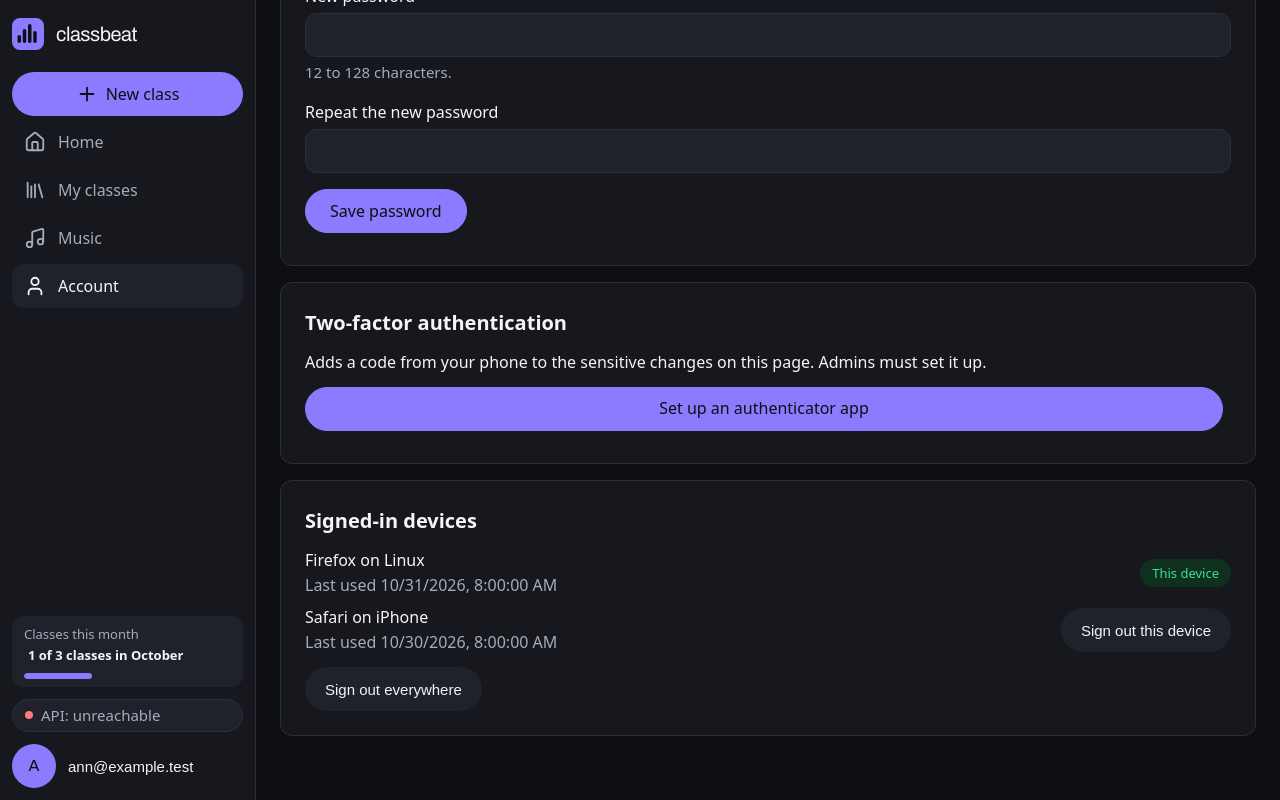
Test: signed-in devices › lists the sessions without their address and signs out another device
The image size is (1280, 800).
(page scrolled)
Expected: the list with test id "devices" shows "Firefox on Linux", left=305, top=549, right=425, bottom=571
Expected: the list with test id "devices" shows "This device", left=1152, top=564, right=1219, bottom=582
Click the button "Sign out this device" at (1146, 630), box left=1061, top=608, right=1231, bottom=652
(page scrolled)
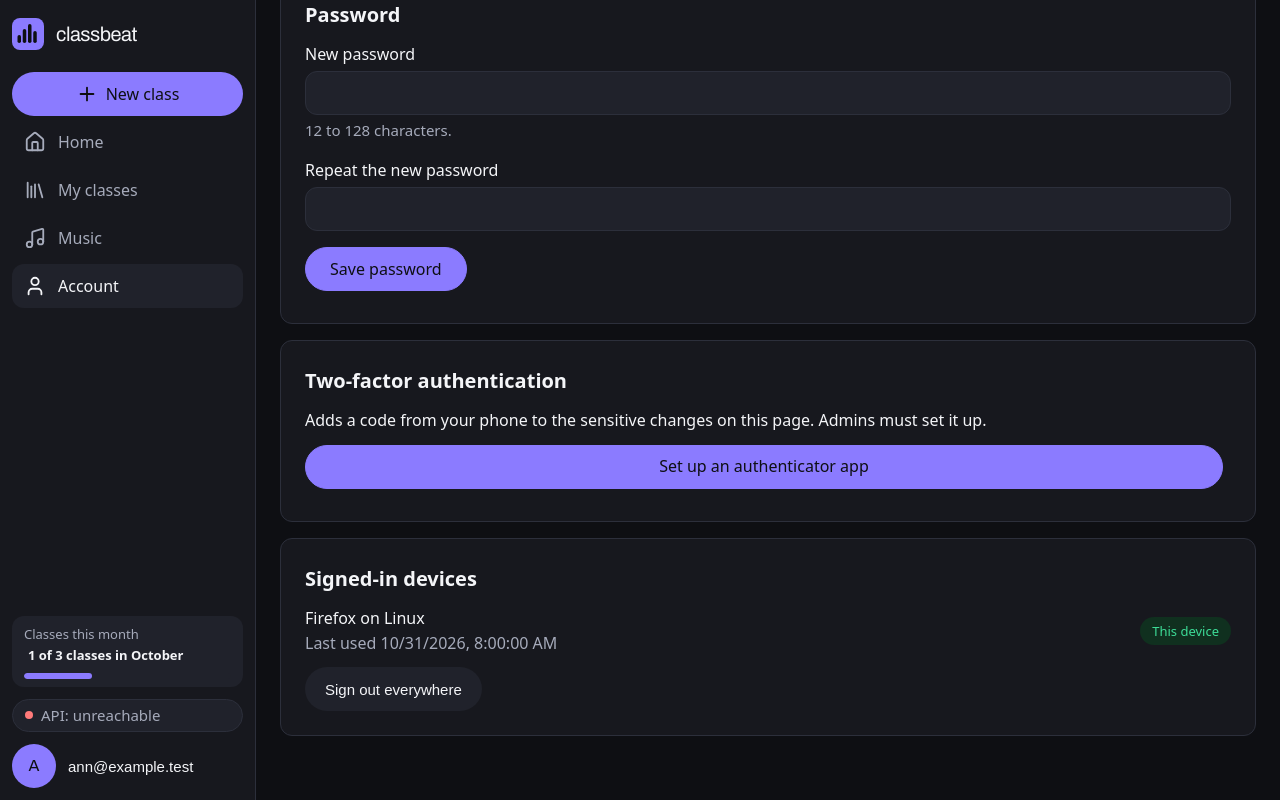
Expected: the list with test id "devices" no longer shows "Safari on iPhone", left=305, top=606, right=1231, bottom=655
